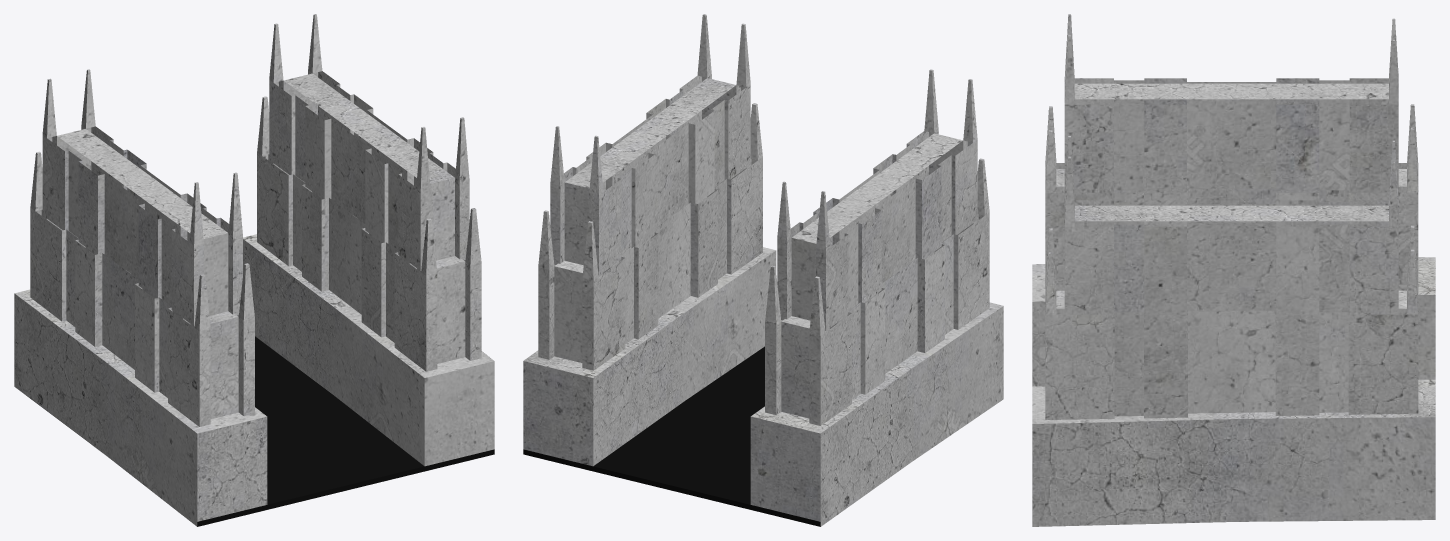
The model's file is bridge_02.fbx.
The picture shows the model from 3 angles, left to right: view 1: azimuth 30°, elevation 25°; view 2: azimuth 150°, elevation 25°; view 3: azimuth 270°, elevation 25°; orthographic projection. The views are drawn at different scales.
Visible parts, largest first — view 1: bridgeTower; view 2: bridgeTower; view 3: bridgeTower.
Boxes of the visible parts, x1,y1,x2,y2 form: bridgeTower: (14, 14, 494, 526); bridgeTower: (523, 14, 1003, 526); bridgeTower: (1032, 14, 1435, 526).
Bounding box in the file's own units: 4.57 × 4.81 × 4.87.
Materials: 2 (1 with a texture image).
